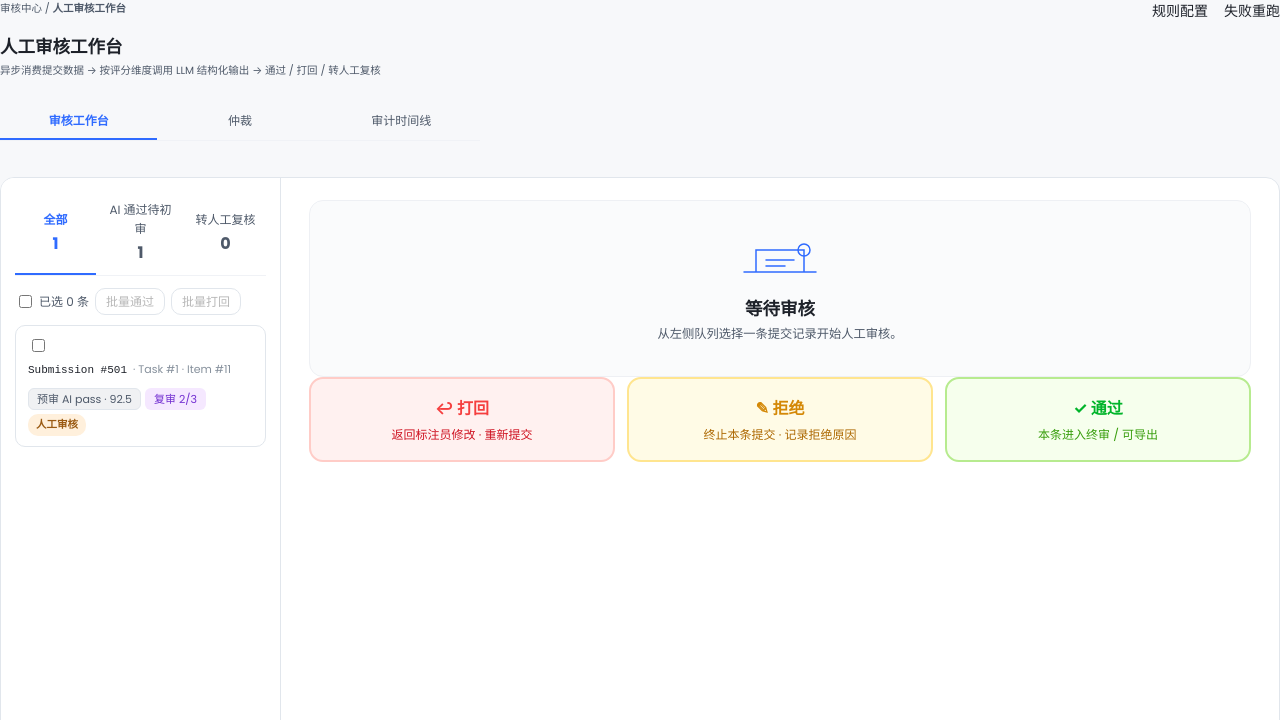
ReviewerQueue schema runtime flow › shows the review stage (复审 / 审核进度 2/3) in the detail and labels the approve action with the stage
Expected: the text named "审核阶段 复审" is shown, [145, 388, 206, 410]
Click the text "Submission #501".
click(78, 370)  # box [28, 364, 127, 376]
(page scrolled)
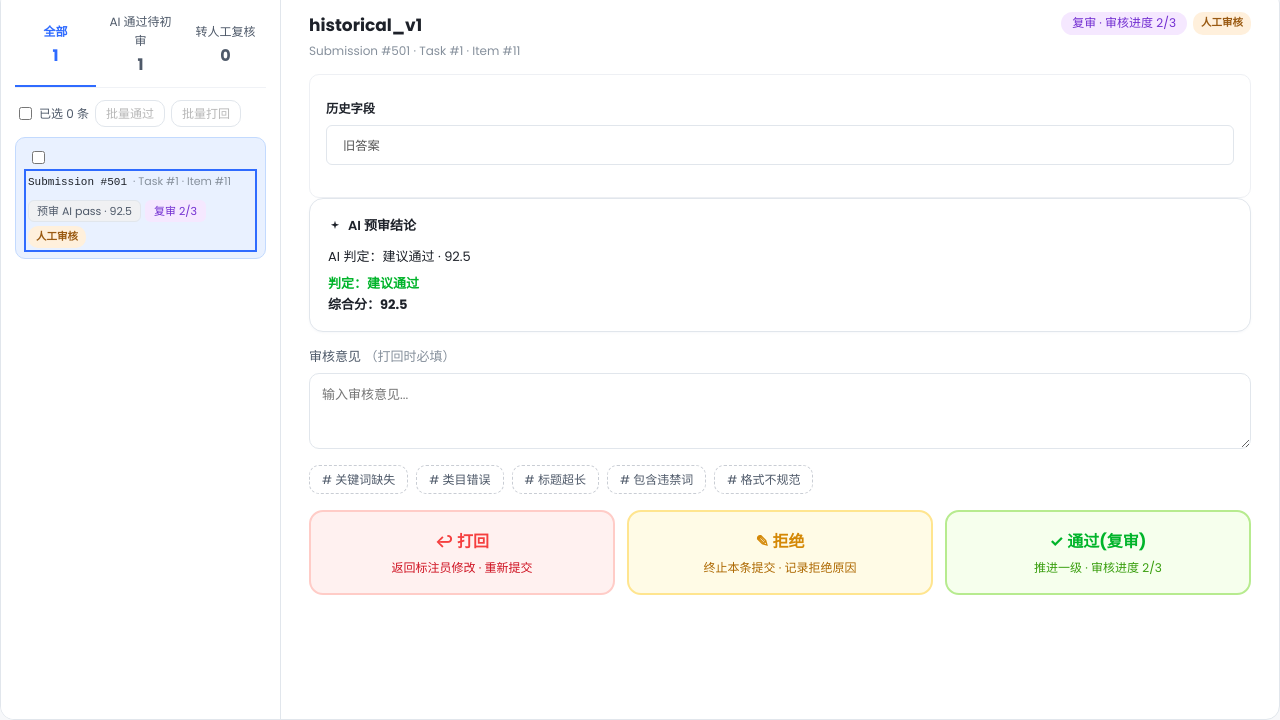
Expected: the text "✓ 通过(复审)" is shown, [1050, 530, 1146, 553]
Expected: the text "推进一级 · 审核进度 2/3" is shown, [1034, 559, 1162, 576]
